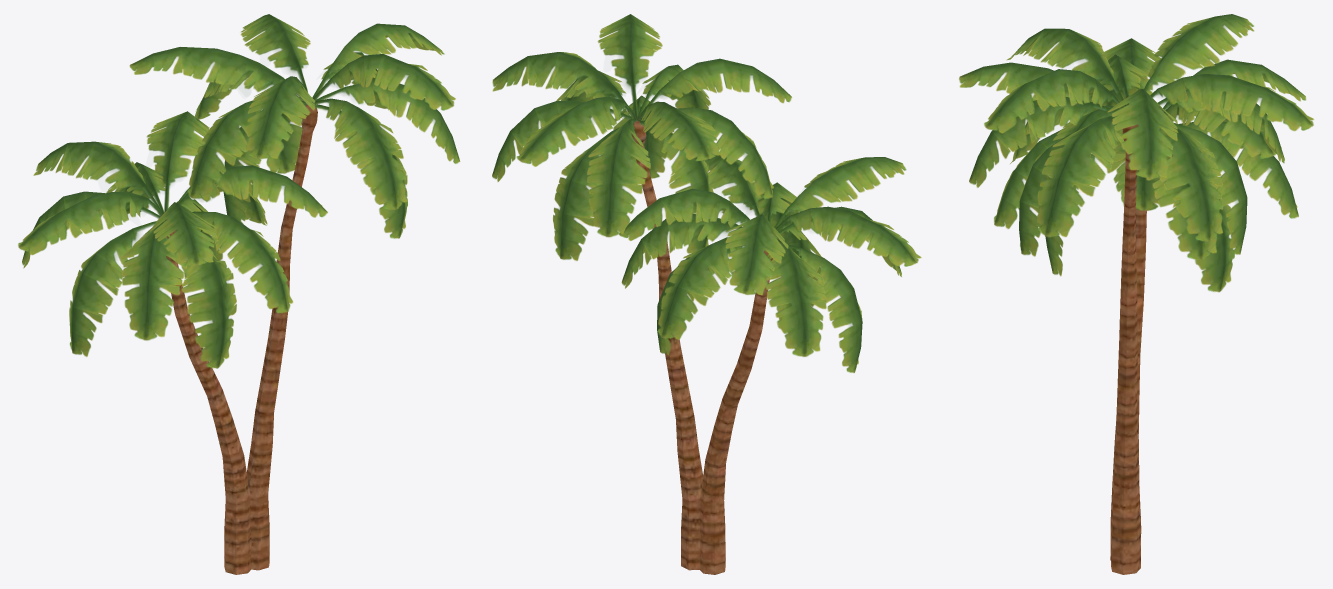
File: bay-palm.lod0.glb
The picture shows the model from 3 angles, left to right: view 1: azimuth 30°, elevation 25°; view 2: azimuth 150°, elevation 25°; view 3: azimuth 270°, elevation 25°; orthographic projection. The views are drawn at different scales.
Parts seen in each view (by area): view 1: Leaf_4_Leaf_3_0, Bark_4_Bark_4_0; view 2: Leaf_4_Leaf_3_0, Bark_4_Bark_4_0; view 3: Leaf_4_Leaf_3_0, Bark_4_Bark_4_0.
Part boxes in pixels (x1=…): Leaf_4_Leaf_3_0: x1=18, y1=14, x2=460, y2=368; Bark_4_Bark_4_0: x1=165, y1=105, x2=317, y2=574; Leaf_4_Leaf_3_0: x1=492, y1=14, x2=921, y2=372; Bark_4_Bark_4_0: x1=631, y1=121, x2=772, y2=574; Leaf_4_Leaf_3_0: x1=959, y1=14, x2=1313, y2=292; Bark_4_Bark_4_0: x1=1110, y1=124, x2=1146, y2=574.
Size of the model in its own units: 7.08 by 8 by 4.78.
Materials: 2 (2 with a texture image).
